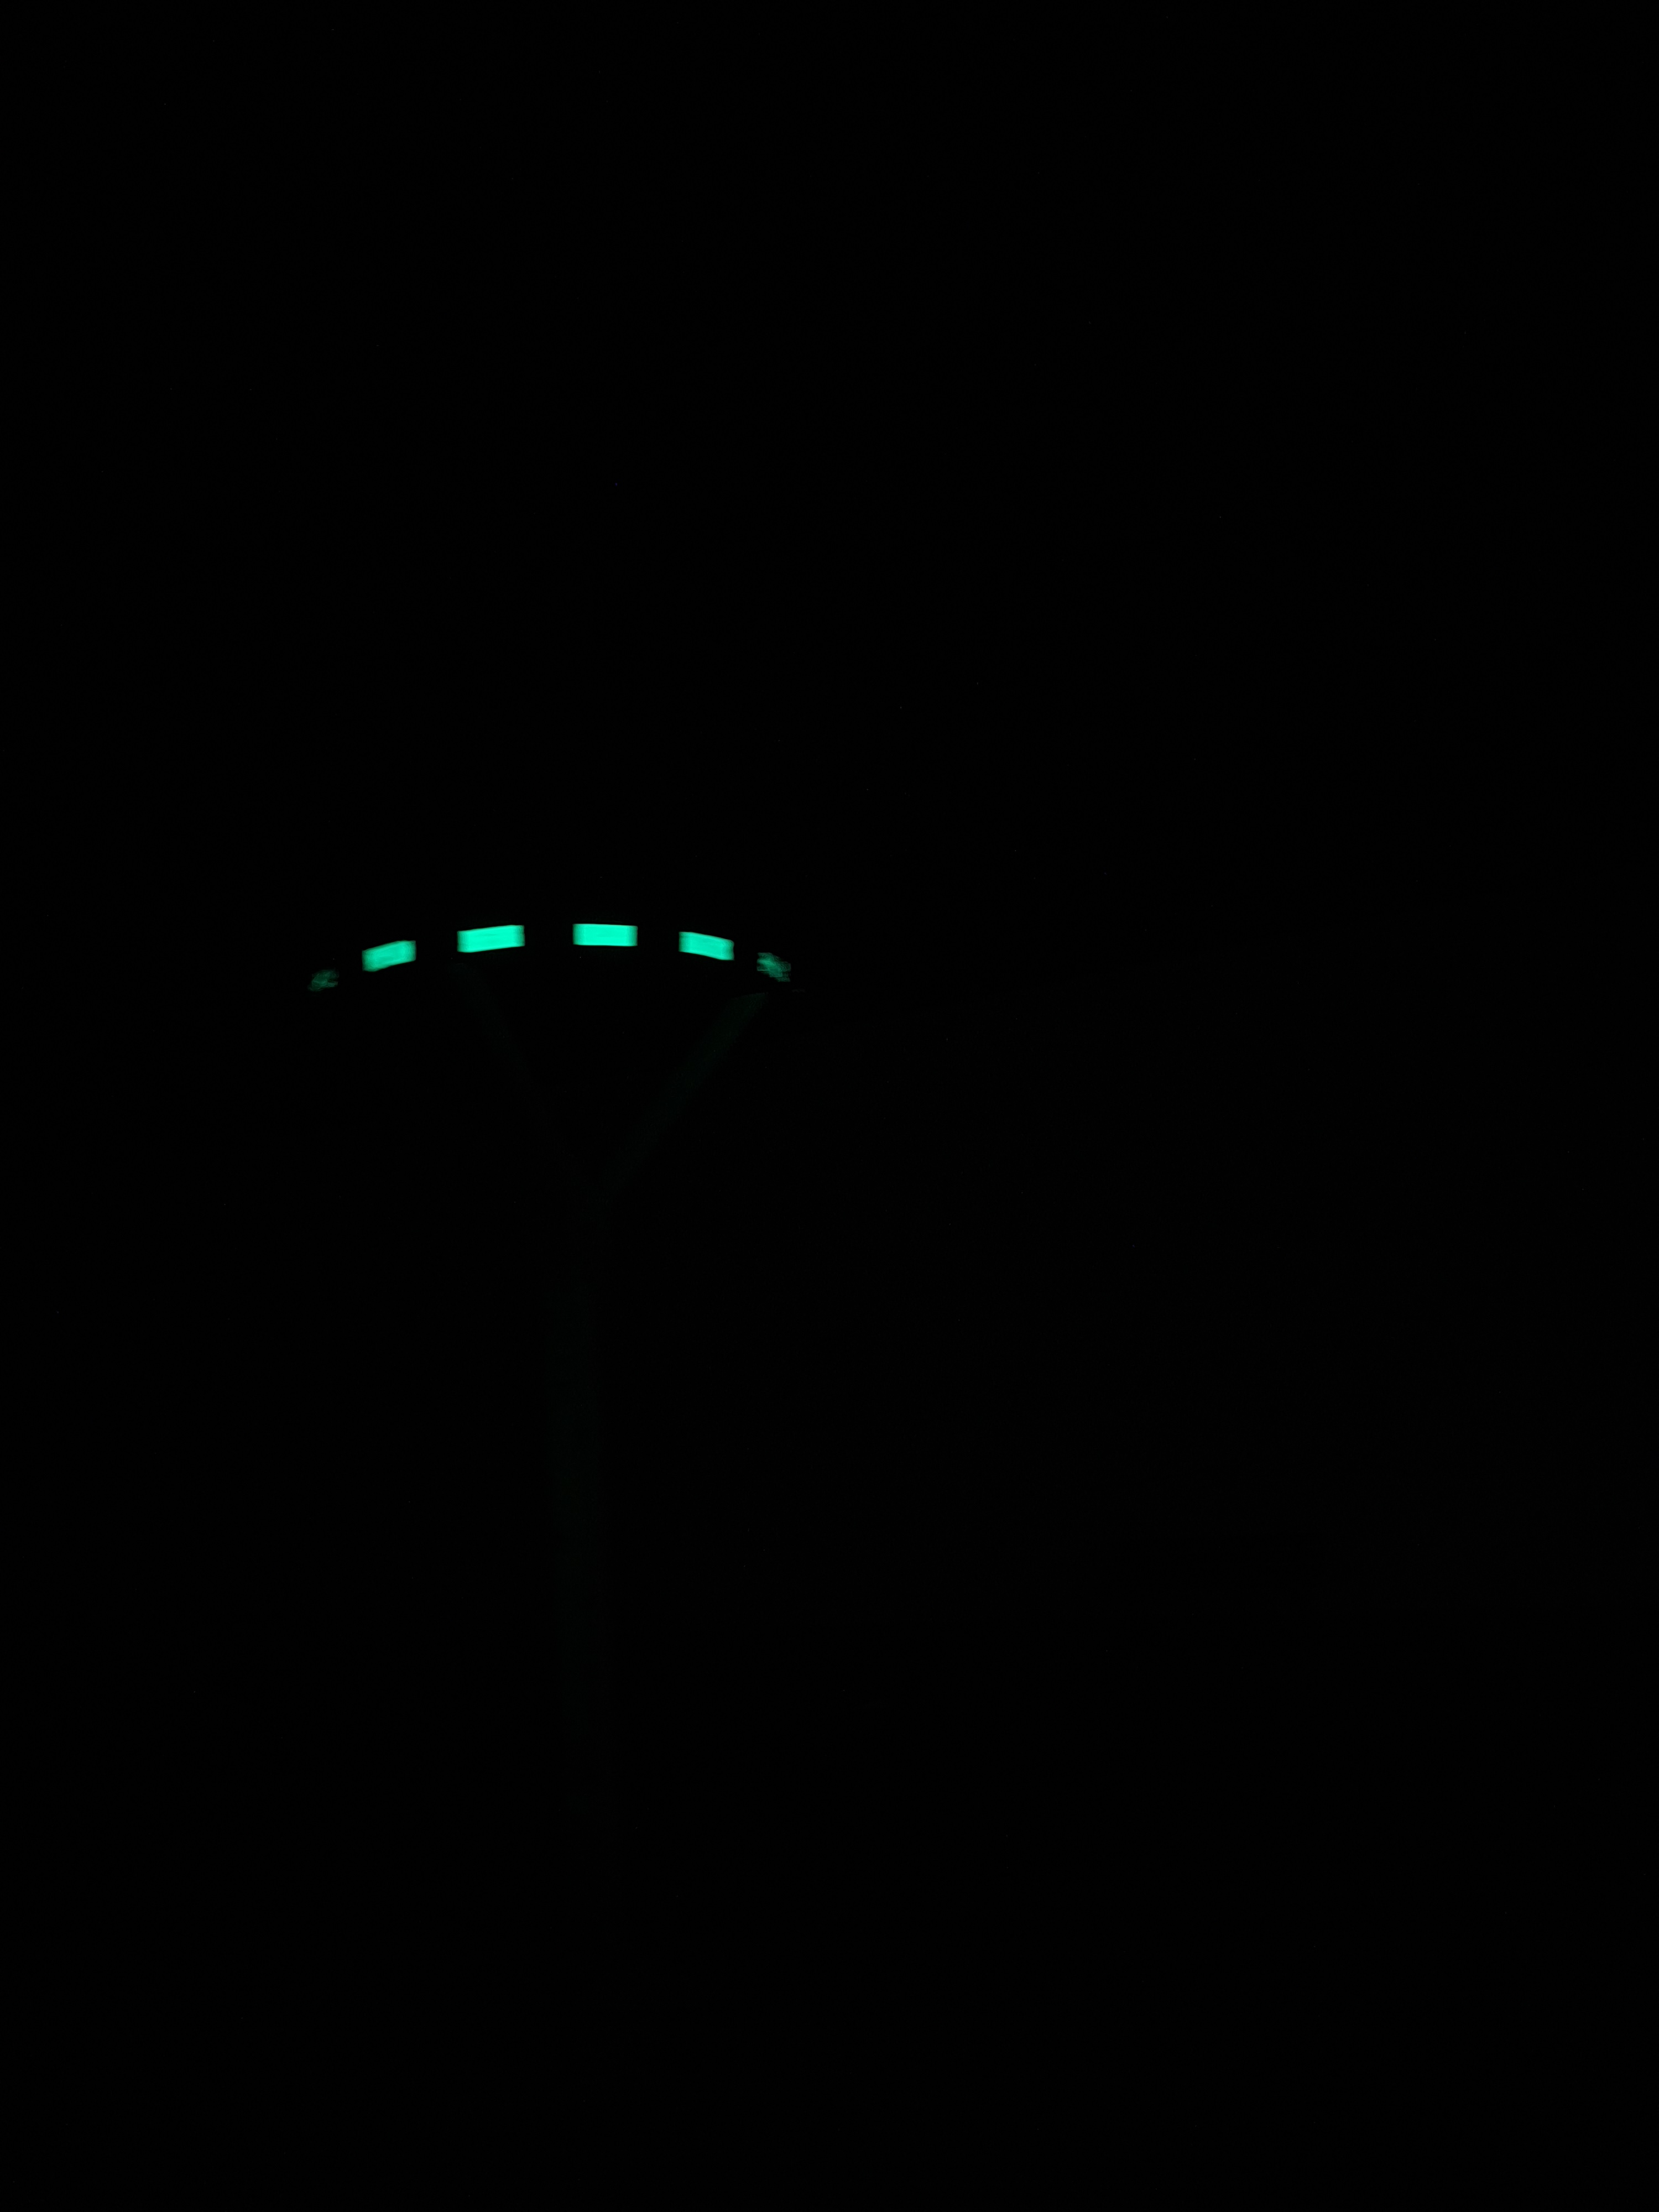hoop: (281, 909, 807, 998)
